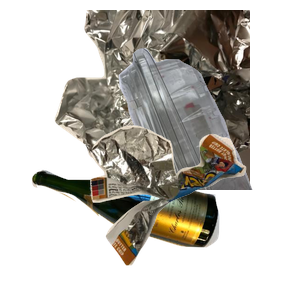glass: (29, 167, 241, 300)
metal: (52, 10, 292, 190)
plastic: (71, 45, 300, 225)
trash: (88, 123, 300, 300)
